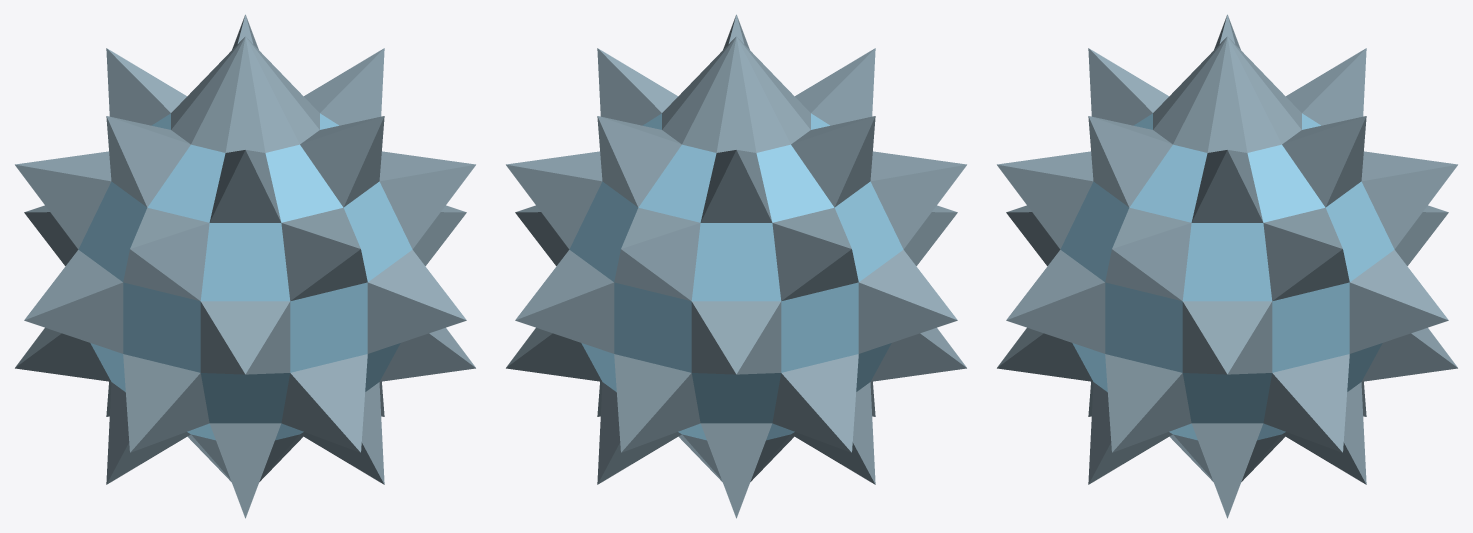
File: Splinter(model).fbx
The picture shows the model from 3 angles, left to right: view 1: azimuth 30°, elevation 25°; view 2: azimuth 150°, elevation 25°; view 3: azimuth 270°, elevation 25°; orthographic projection.
Visible parts, largest first — view 1: pSphere1; view 2: pSphere1; view 3: pSphere1.
Part boxes in pixels (box(x1,y1,x2,y2)): pSphere1: box(15, 14, 475, 518); pSphere1: box(506, 14, 966, 518); pSphere1: box(997, 14, 1457, 518).
Bounding box in the file's own units: 1.01 × 1 × 0.9113.
